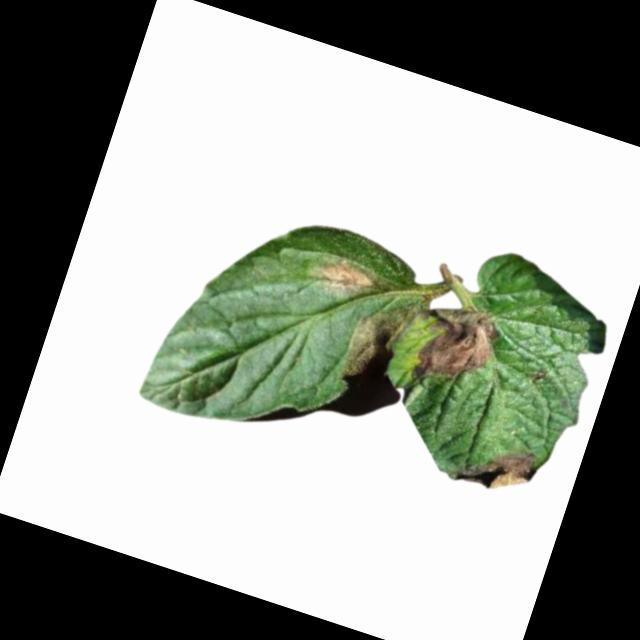Late_blight: (407, 294, 506, 404), (338, 290, 419, 394), (448, 433, 540, 503), (311, 250, 385, 306), (531, 366, 549, 384)
